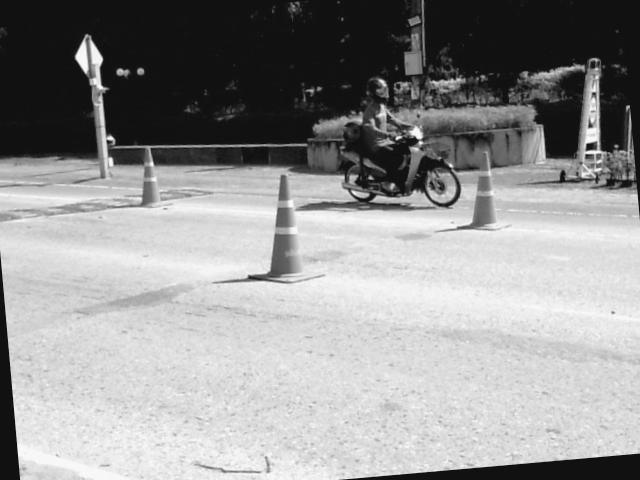helmet: (365, 76, 388, 100)
motor: (338, 124, 459, 206)
person: (361, 77, 409, 190)
